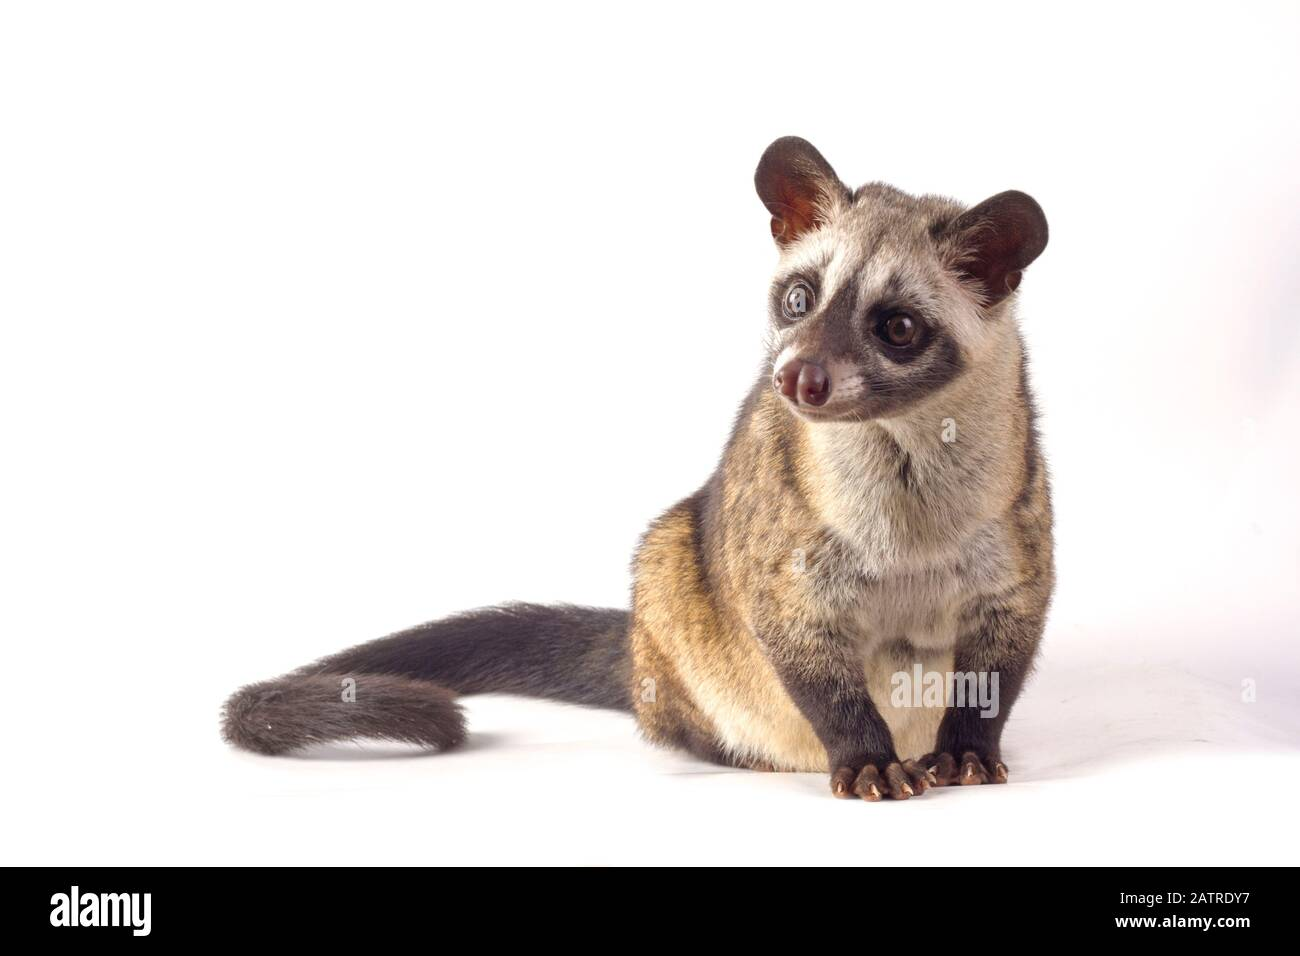Civet: (187, 95, 1092, 807)
